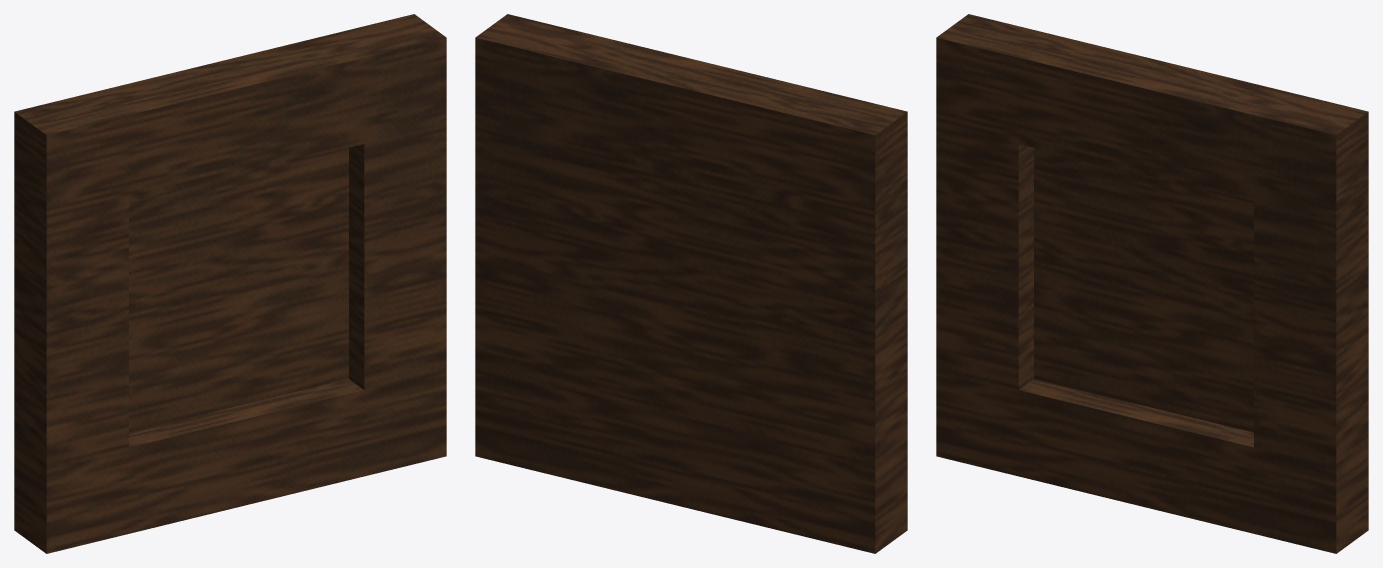
Rendered from WallPhotoframe01.fbx.
The picture shows the model from 3 angles, left to right: view 1: azimuth 30°, elevation 25°; view 2: azimuth 150°, elevation 25°; view 3: azimuth 330°, elevation 25°; orthographic projection.
Parts seen in each view (by area): view 1: WallPhotoframe01; view 2: WallPhotoframe01; view 3: WallPhotoframe01.
Part boxes in pixels (x1=…): WallPhotoframe01: x1=14, y1=14, x2=446, y2=553; WallPhotoframe01: x1=475, y1=14, x2=907, y2=553; WallPhotoframe01: x1=936, y1=14, x2=1368, y2=553.
Bounding box in the file's own units: 0.25 × 0.25 × 0.035.
1 material, 1 textured.
